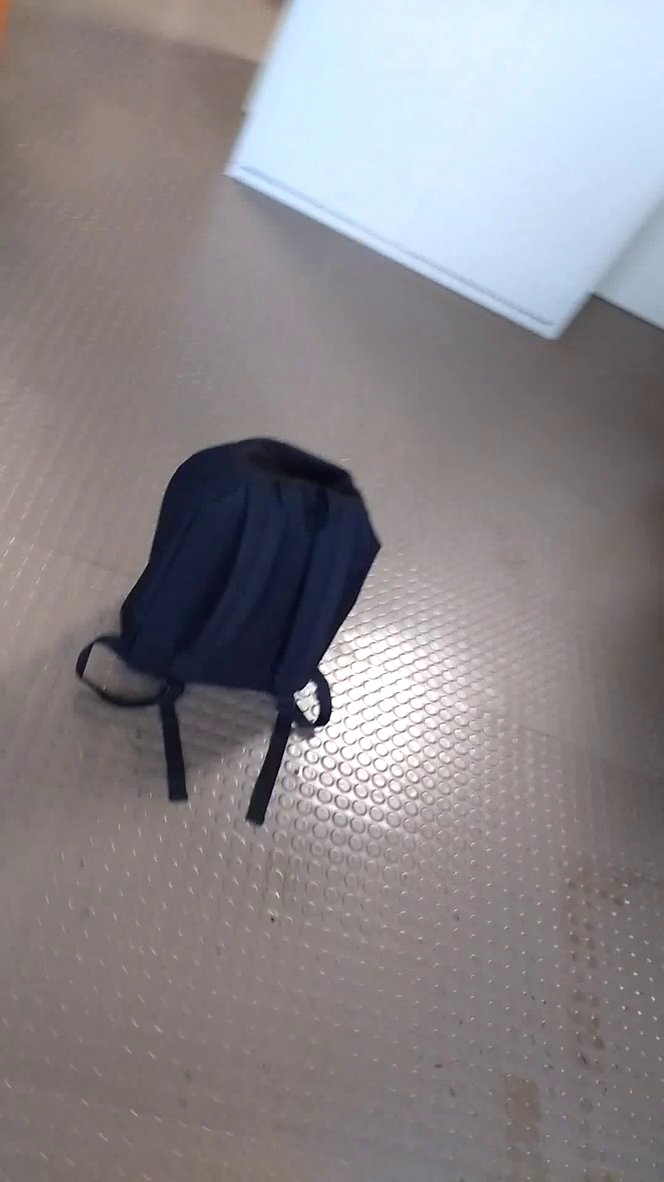bag: (74, 424, 392, 855)
